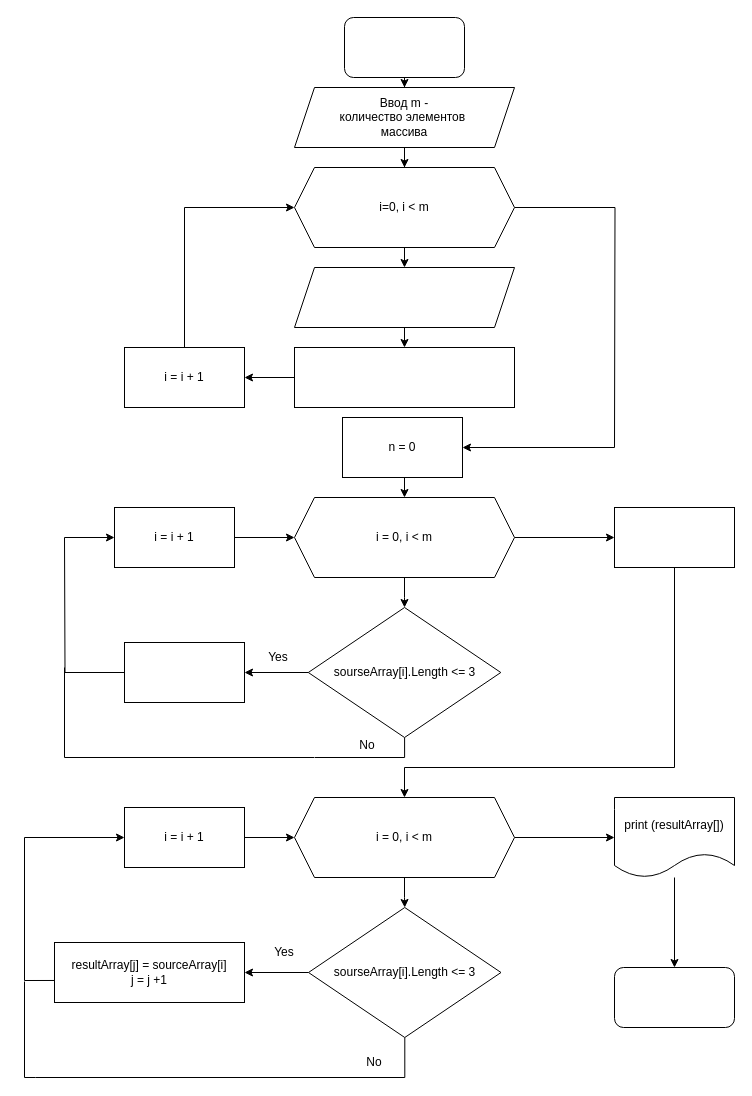
This 752x1096 diagram has some shape labels left out. Here are the shapes that lost their labels. From the top down, the box of each, then its label:
(344, 16, 464, 78): START
(294, 266, 514, 328): Ввод значения элементов массива с консоли
(294, 346, 514, 408): Запись значений в массив sourseArray[i]
(614, 506, 734, 568): Создание пустого массива resultArray[n] j = 0
(124, 642, 244, 702): n = n + 1
(614, 966, 734, 1028): FINISH
